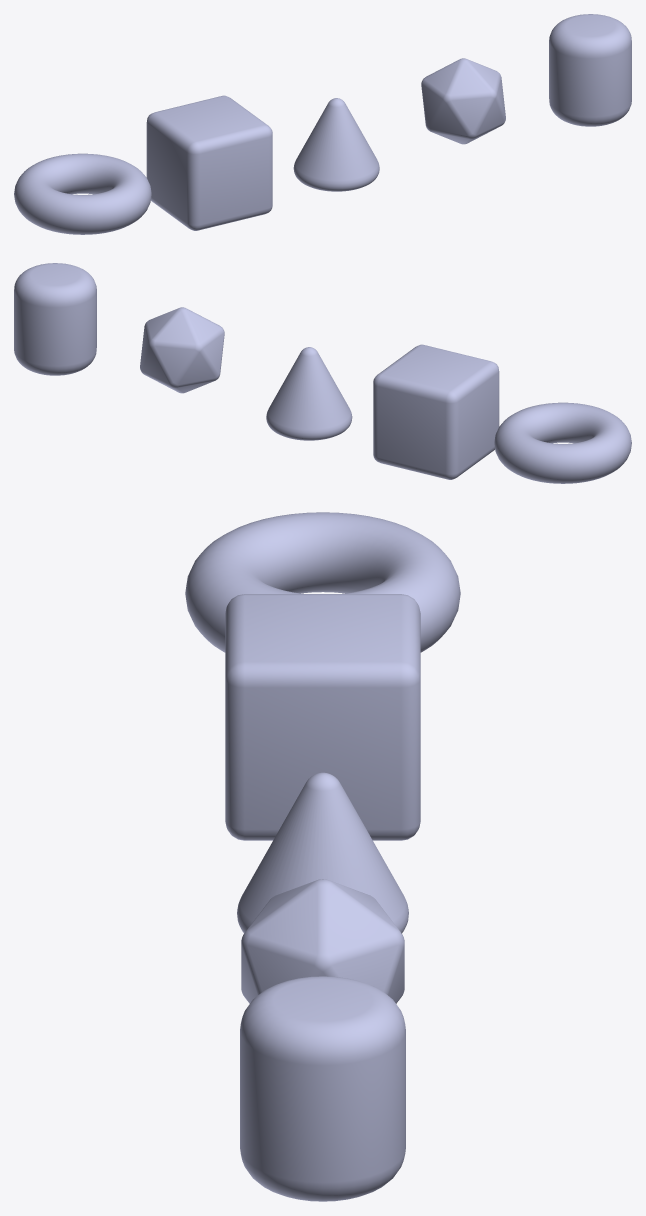
File: geoI.glb
The picture shows the model from 3 angles, top to bottom: view 1: azimuth 30°, elevation 25°; view 2: azimuth 150°, elevation 25°; view 3: azimuth 270°, elevation 25°; orthographic projection. The views are drawn at different scales.
Parts seen in each view (by area): view 1: cube, torus, cylinder, ico, cone; view 2: cube, torus, cylinder, ico, cone; view 3: cube, cylinder, torus, ico, cone.
Boxes of the visible parts, left/top/right/bottom form: cube: left=146, top=95, right=272, bottom=230; torus: left=14, top=153, right=151, bottom=234; cylinder: left=549, top=14, right=631, bottom=126; ico: left=421, top=58, right=505, bottom=144; cone: left=293, top=98, right=379, bottom=191; cube: left=373, top=344, right=499, bottom=479; torus: left=494, top=402, right=631, bottom=483; cylinder: left=14, top=263, right=96, bottom=375; ico: left=140, top=307, right=224, bottom=393; cone: left=266, top=347, right=352, bottom=440; cube: left=225, top=594, right=420, bottom=840; cylinder: left=240, top=976, right=405, bottom=1201; torus: left=185, top=512, right=460, bottom=652; ico: left=241, top=879, right=404, bottom=1003; cone: left=237, top=772, right=408, bottom=933.
Size of the model in its own units: 14.26 by 2 by 2.82.
